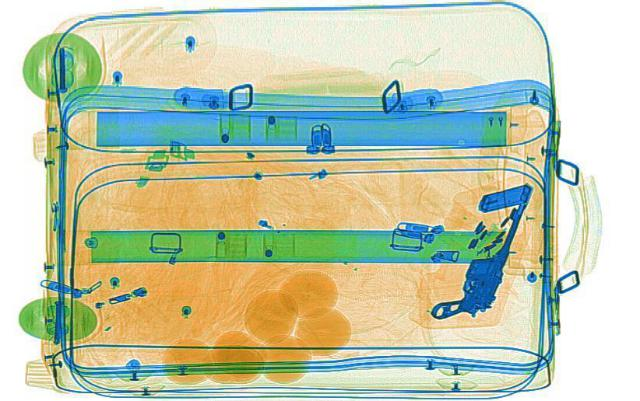Gun: (426, 195, 532, 322)
